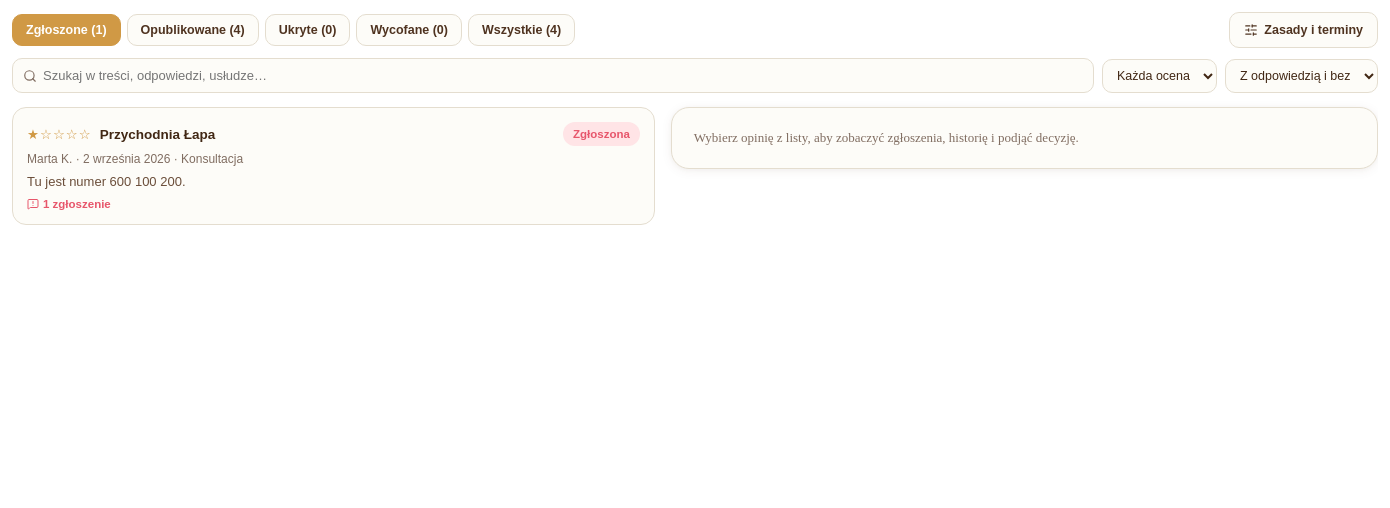
Test: Opinie - moderacja › sets the time limits, with no limit for replies
Click the button "Zasady i terminy" at (1304, 30), box top-left (1229, 12), bottom-right (1378, 48)
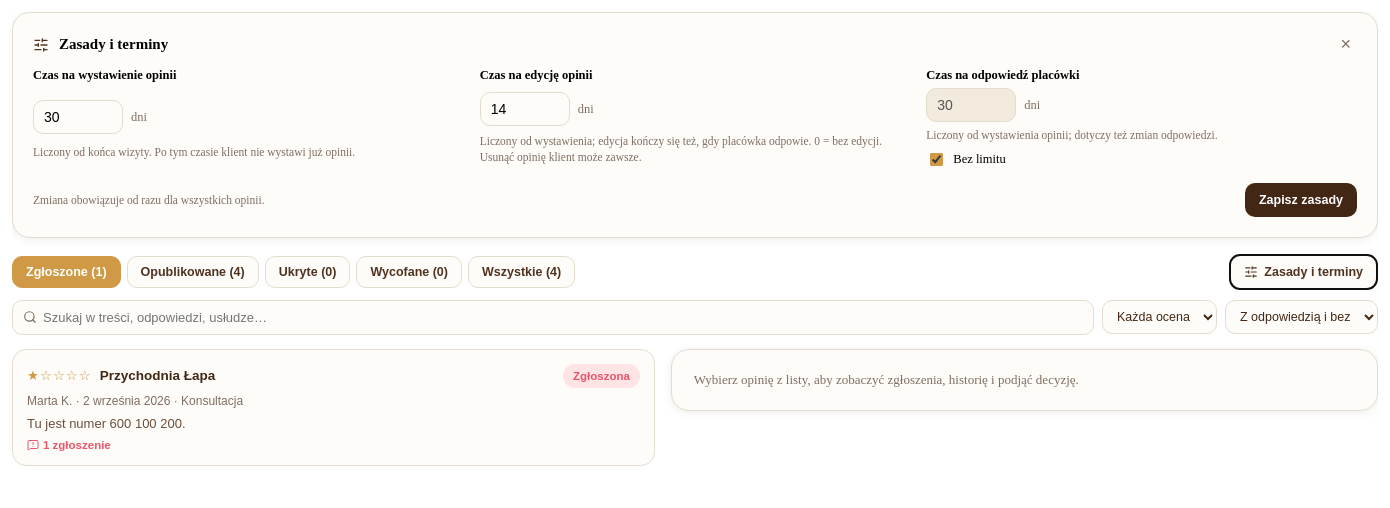
Replace the text in the field labelled "Czas na wystawienie opinii" with "400" at (78, 118), box top-left (33, 100), bottom-right (123, 134)
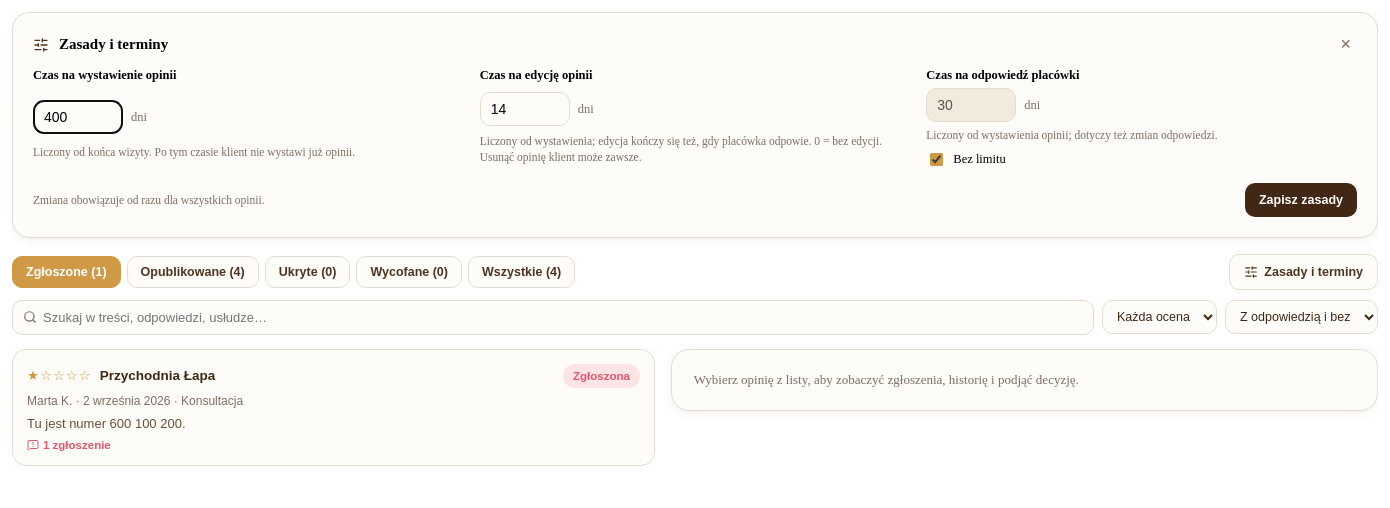
Click the button "Zapisz zasady" at (1301, 200), box top-left (1245, 183), bottom-right (1357, 217)
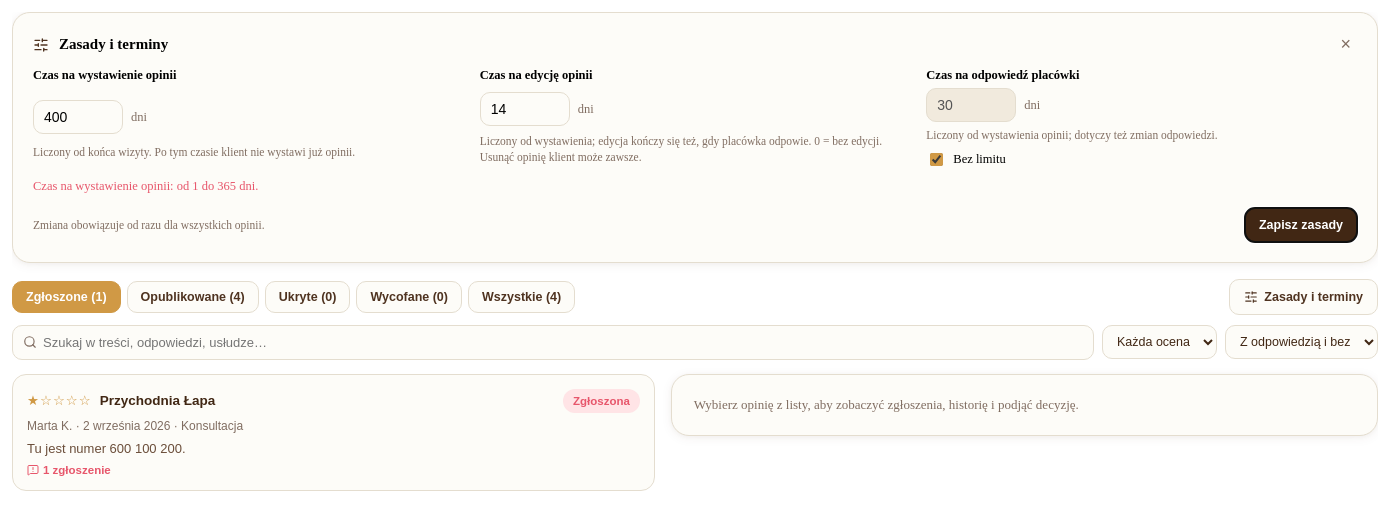
Expected: the message shows "od 1 do 365 dni", top-left (33, 179), bottom-right (258, 193)
Replace the text in the field labelled "Czas na wystawienie opinii" with "21" at (78, 118), box top-left (33, 100), bottom-right (123, 134)
Replace the text in the field labelled "Czas na edycję opinii" with "7" at (525, 109), box top-left (480, 92), bottom-right (570, 126)
Click the checkbox labelled "Bez limitu" at (937, 159), box top-left (930, 153), bottom-right (943, 166)
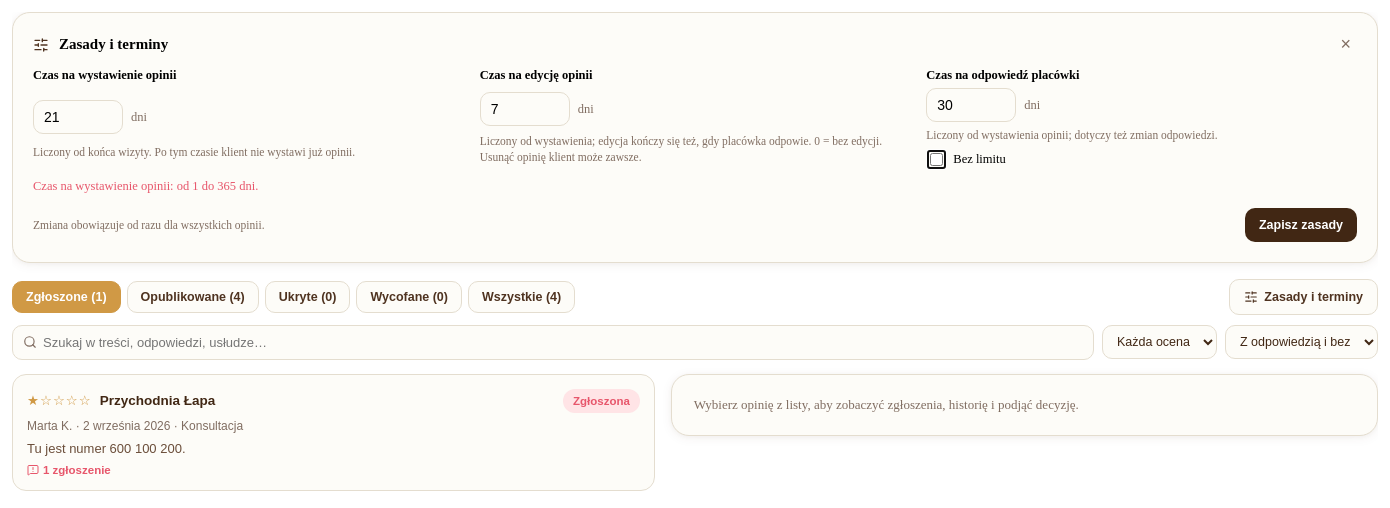
Replace the text in the field labelled "Czas na odpowiedź placówki" with "60" at (971, 105), box top-left (926, 88), bottom-right (1016, 122)
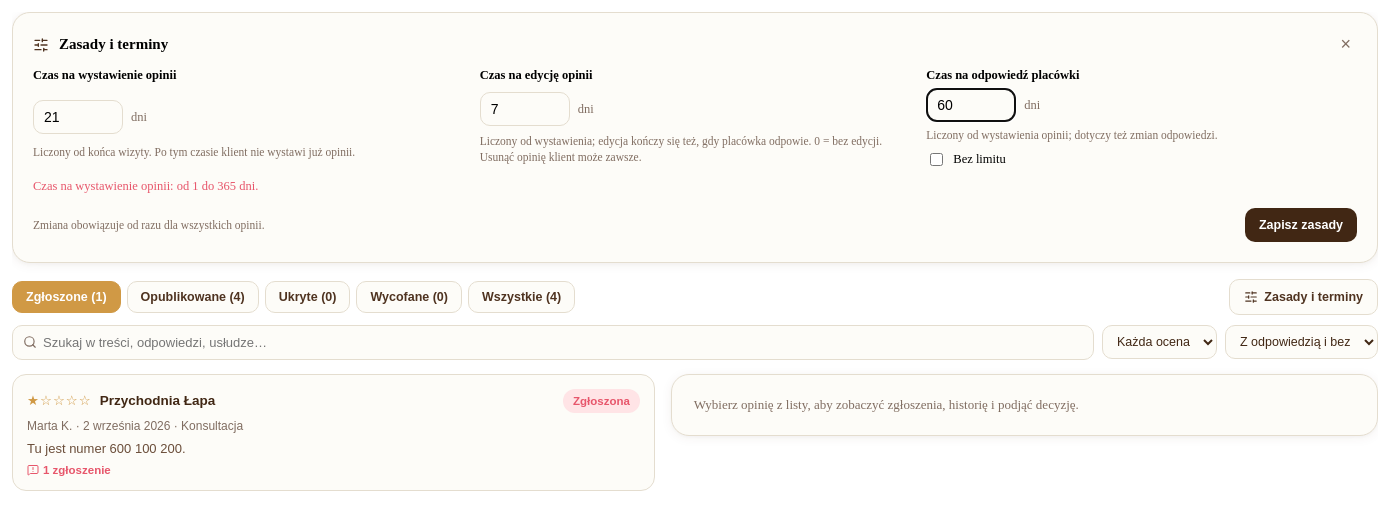
Click the button "Zapisz zasady" at (1301, 225), box top-left (1245, 208), bottom-right (1357, 242)
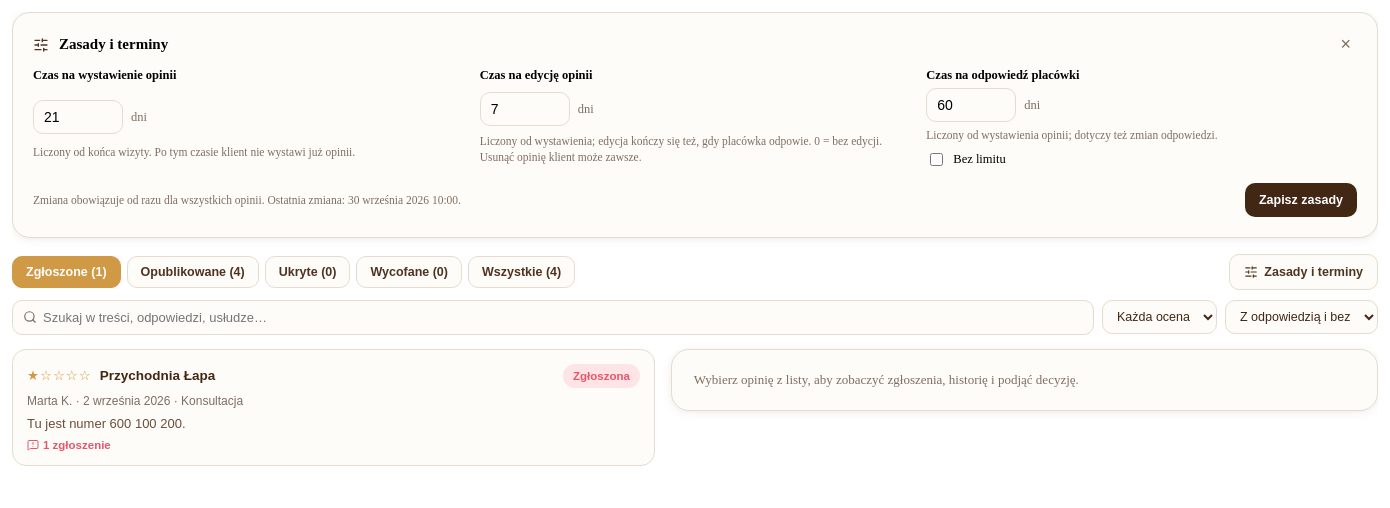
Expected: the message "Czas na wystawienie opinii: od 1 do 365 dni." is gone
